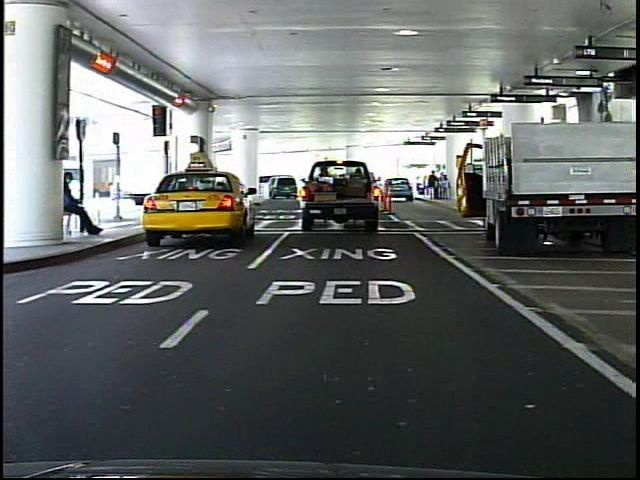person: (66, 168, 109, 241), (157, 167, 179, 219)
